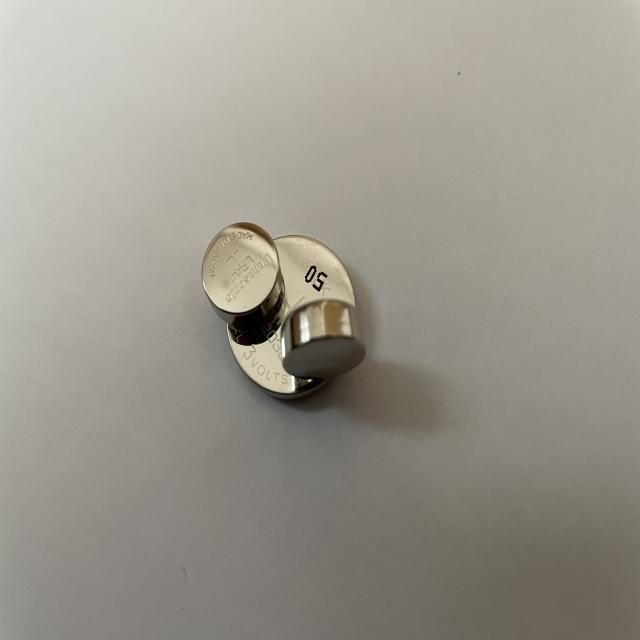COIN: (225, 234, 362, 402), (201, 220, 283, 330), (274, 301, 370, 382)
